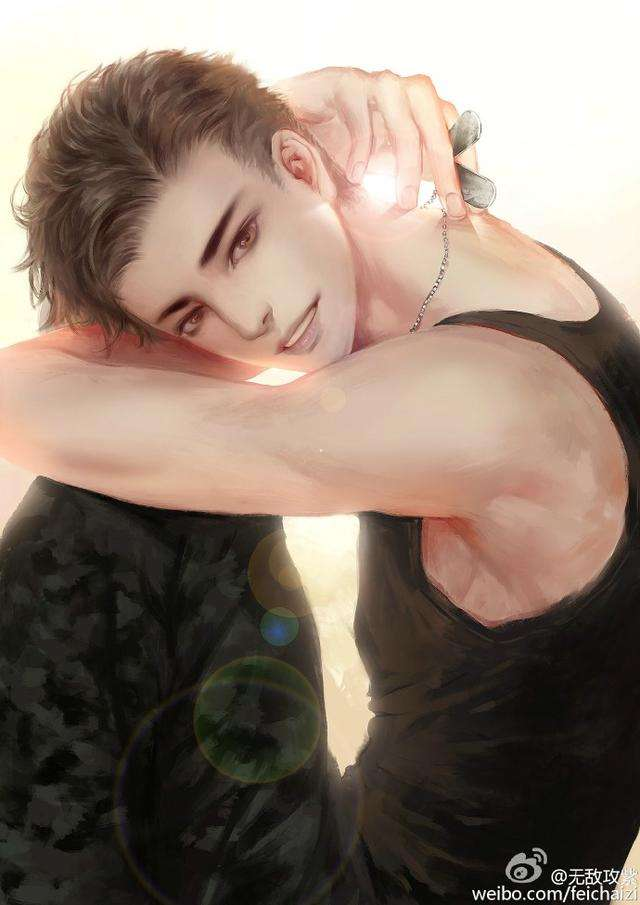person: (14, 76, 487, 674)
